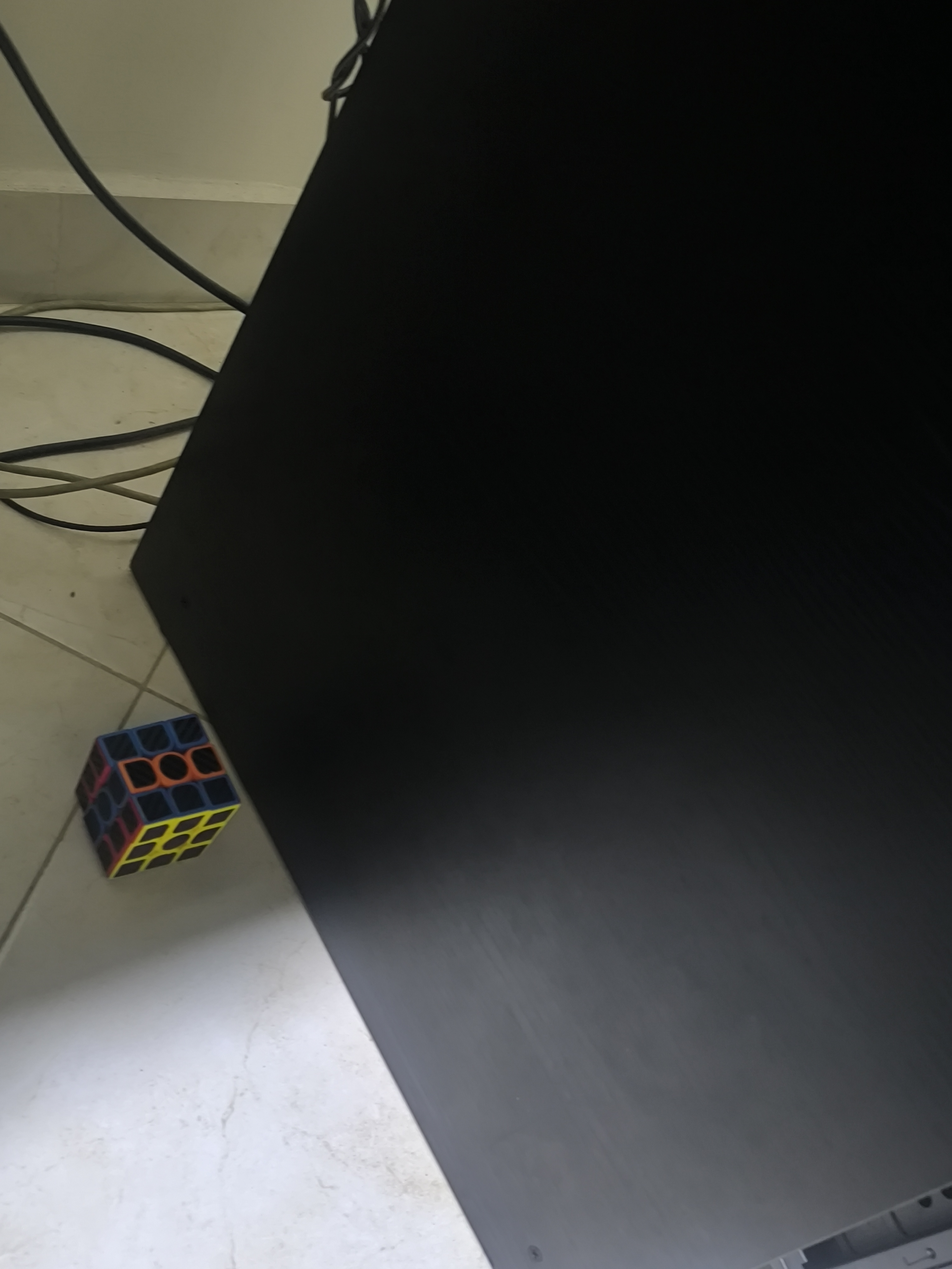cube_rubik: (77, 715, 239, 877)
